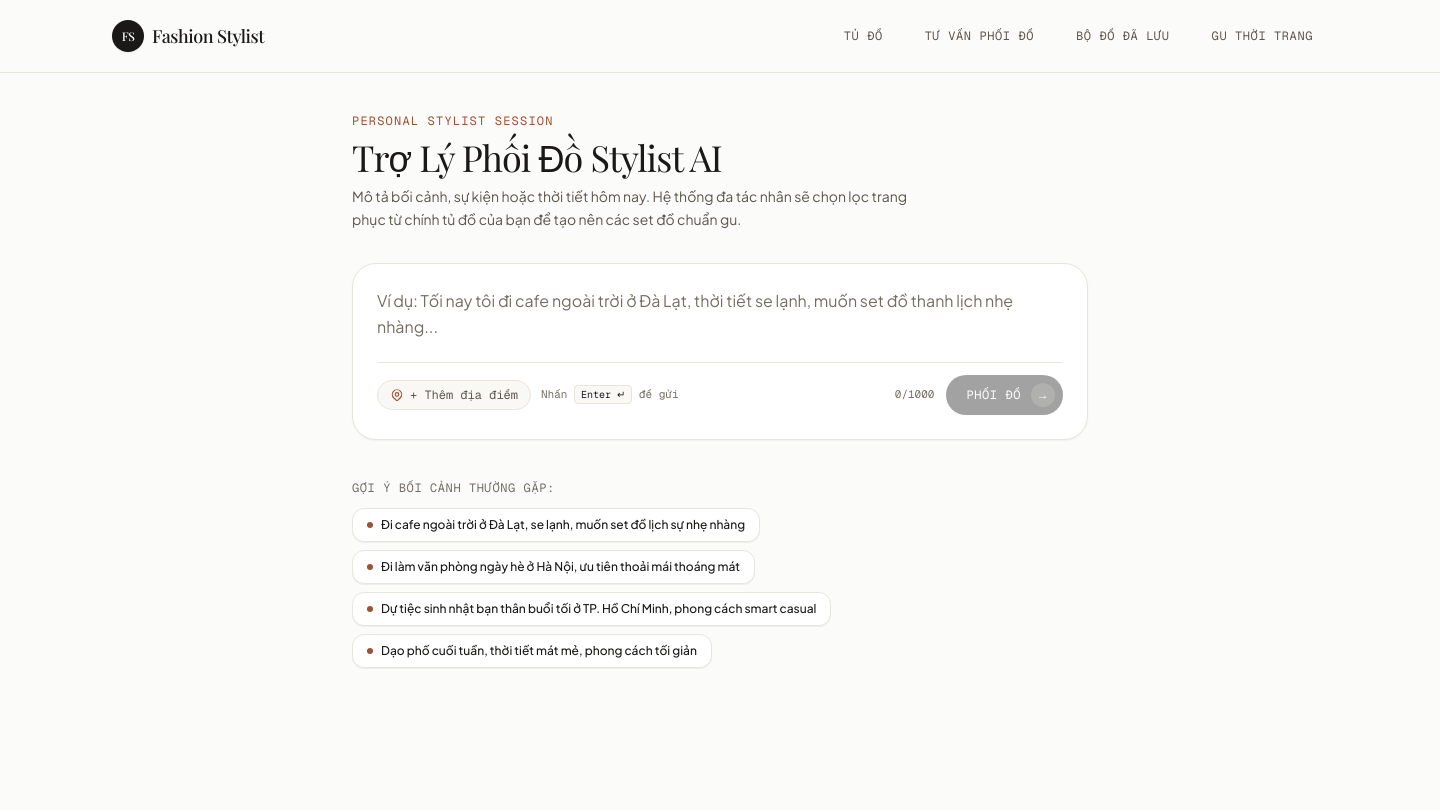
Test: Chat Page & Components Integration › submits query and renders successful recommendations
This screenshot has width=1440, height=810.
Replace the text in the text box named "Nhu cầu phối đồ của bạn" with "Đi cafe sáng cuối tuần" at (720, 314), box [377, 288, 1063, 340]
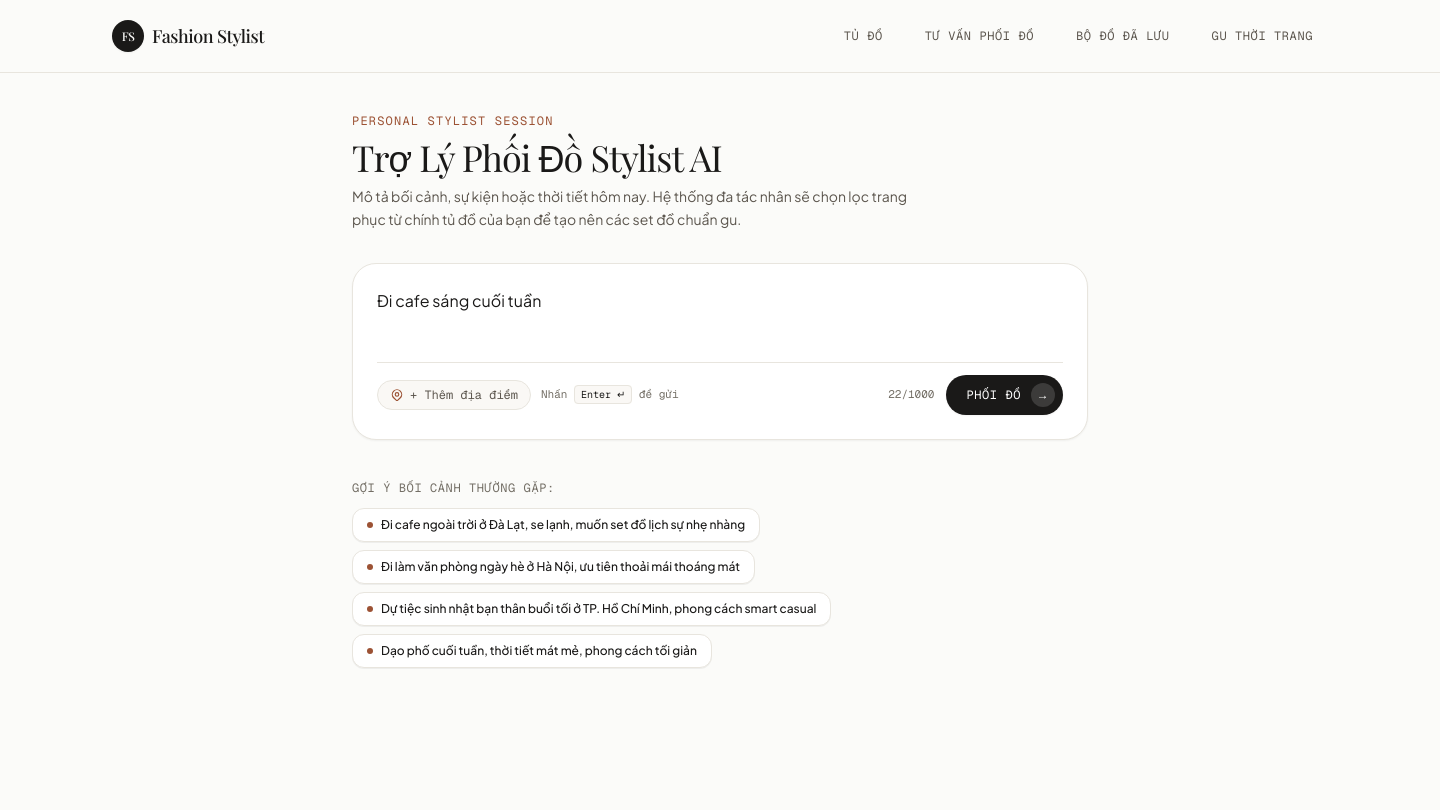
Click the button "Phối Đồ →" at (1005, 394), box [946, 374, 1063, 414]
(page scrolled)
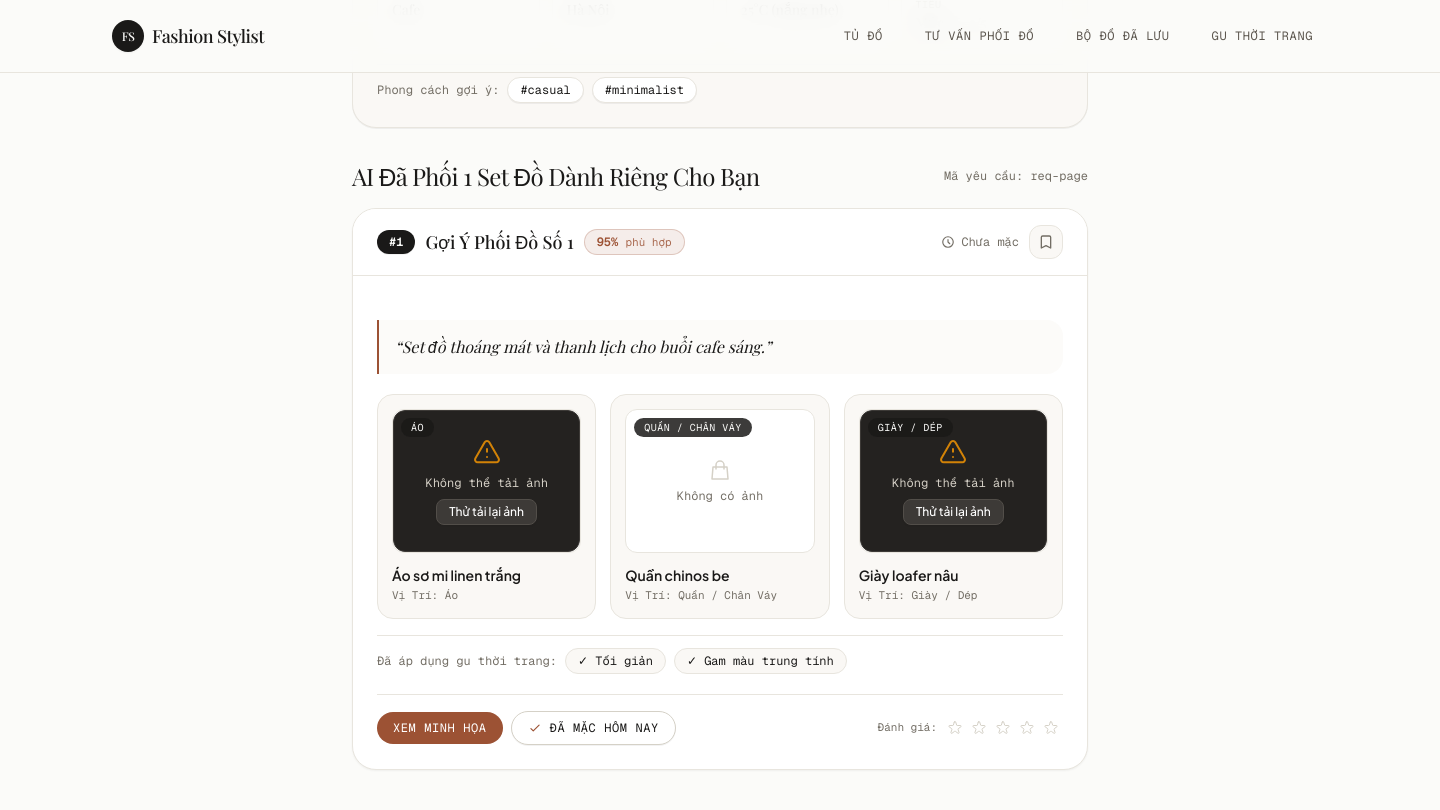
expect the heading "Gợi Ý Phối Đồ Số 1" is shown: met, box [425, 228, 574, 256]
expect the heading "Áo sơ mi linen trắng" is shown: met, box [392, 565, 521, 585]
expect the heading "Quần chinos be" is shown: met, box [625, 566, 730, 584]
